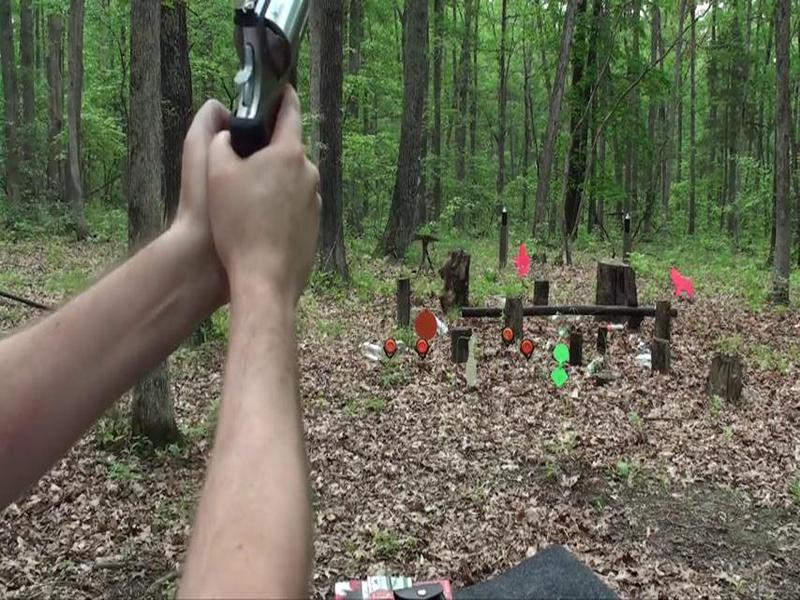Revolver: (201, 1, 317, 197)
